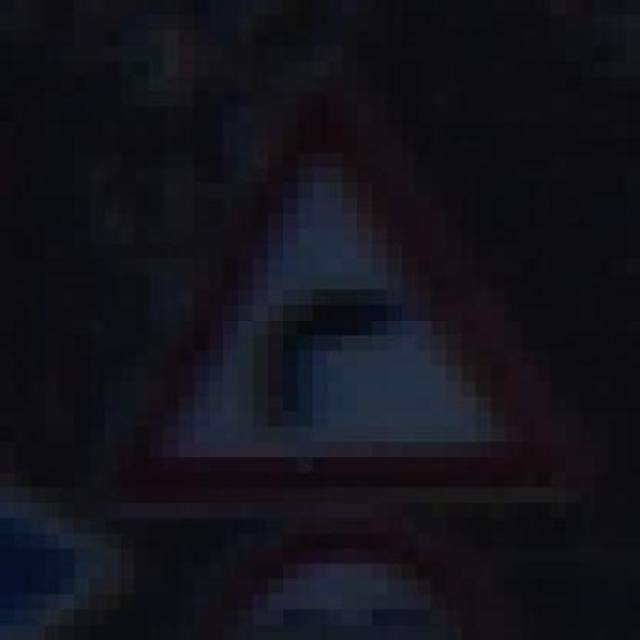Dangerous Rright Curve Ahead: (74, 91, 580, 548)
